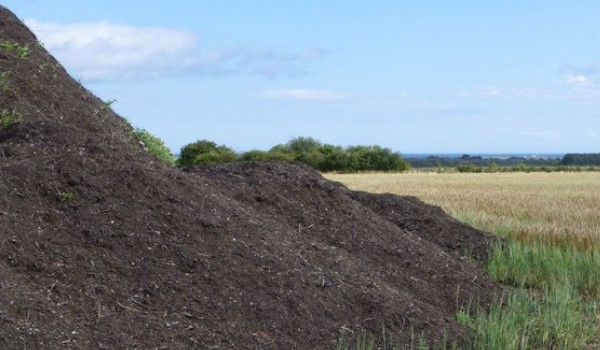dirt: (2, 160, 496, 342), (0, 7, 149, 160)
grass: (493, 171, 595, 343), (369, 172, 493, 223)
